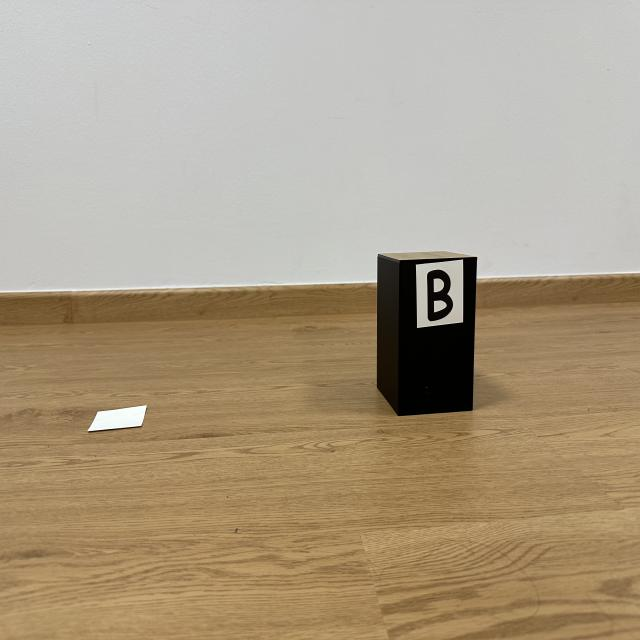B: (428, 270, 452, 322)
